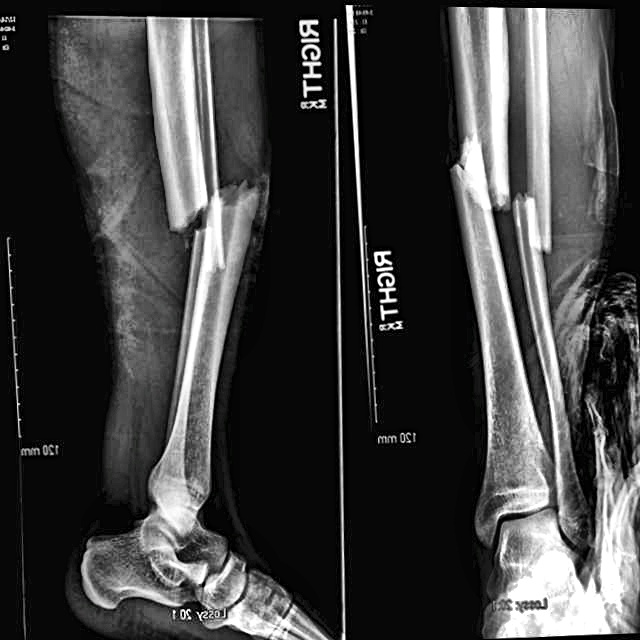Transverse: (145, 147, 274, 292), (436, 134, 513, 224), (503, 173, 569, 262)
